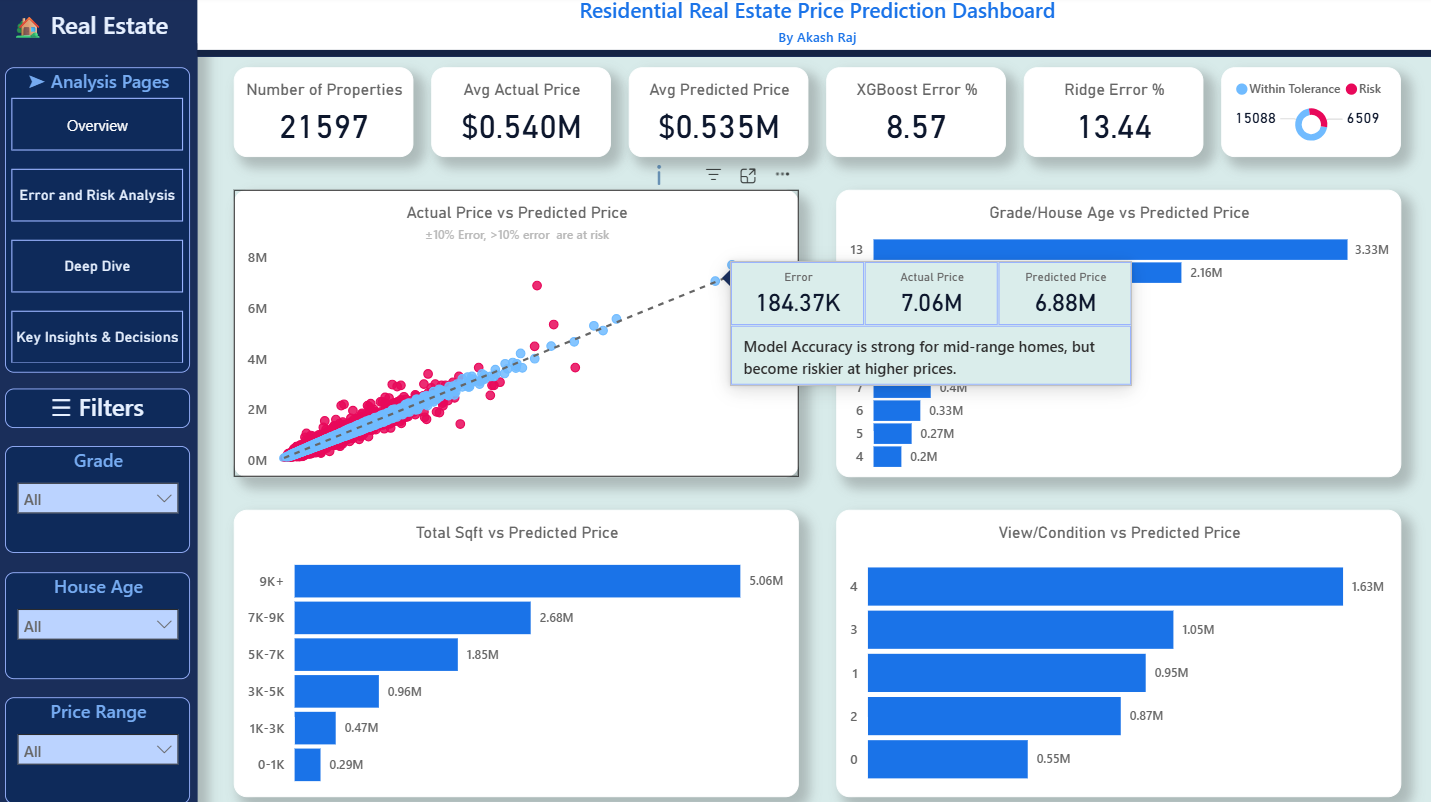

Layout of this report page (visuals, bound fields, positions):
{"tool":"tableau","page":{"name":"Model Reliability & Pricing Confidence","canvas":[1000,1000],"units":"permille","ordinal":1},"visuals":[{"type":"worksheet","title":"Ex-Back","mark":"Automatic","box":[0,0,1000,1000]},{"type":"text","box":[47.4,27.8,902.3,47.2]},{"type":"dashboard-object","box":[54.1,33.3,109.8,38.9]},{"type":"filter","title":"Actual vs Predicted — XGBoost","param":"[federated.0pb6tqq0hun84y1cwjt1z028dbxy].[none:actual_price:qk]","box":[674.4,175,91,98.6]},{"type":"filter","title":"Actual vs Predicted — XGBoost","param":"[federated.0pb6tqq0hun84y1cwjt1z028dbxy].[none:grade:qk]","box":[766.9,175,91,98.6]},{"type":"filter","title":"Ex-Back","param":"[federated.0pb6tqq0hun84y1cwjt1z028dbxy].[none:house_age:qk]","box":[859.4,175,91,98.6]},{"type":"worksheet","title":"KPI Tiles","mark":"Automatic","box":[49.6,176.4,581.2,98.6]},{"type":"blank","box":[166.9,176.4,2.3,97.2]},{"type":"blank","box":[281.9,176.4,2.3,97.2]},{"type":"blank","box":[397,176.4,2.3,97.2]},{"type":"blank","box":[512,176.4,2.3,97.2]},{"type":"worksheet","title":"Actual vs Predicted — XGBoost","mark":"Automatic","rows":["actual_price"],"cols":["xgb_pred_price"],"box":[43.6,419.4,281.2,481.9]},{"type":"worksheet","title":"Actual vs Predicted — Ridge","mark":"Automatic","rows":["actual_price"],"cols":["ridge_pred_price"],"box":[357.1,419.4,279.7,481.9]},{"type":"worksheet","title":"Total Sqft vs Predicted Price","mark":"Bar","rows":["Calculation_0555552130994176"],"cols":["xgb_pred_price"],"box":[671.4,419.4,280.4,481.9]},{"type":"text","box":[214.3,438.9,85.7,41.7]},{"type":"legend","title":"Total Sqft vs Predicted Price","param":"[federated.0pb6tqq0hun84y1cwjt1z028dbxy].[none:Calculation_0458520059084800:nk]","box":[209,833.3,112.8,58.3]}]}

Visuals, with their boxes on the dashboard's canvas, which has no fixed pixel size, in thousandths of its width and height (x1, y1, x2, y2). These are canvas units, not pixel positions in the 1431x802 screenshot, which may show the page scaled, cropped or inside an application window:
"Ex-Back" worksheet: {"x1": 0, "y1": 0, "x2": 1000, "y2": 1000}
text: {"x1": 47, "y1": 28, "x2": 950, "y2": 75}
dashboard-object: {"x1": 54, "y1": 33, "x2": 164, "y2": 72}
"Actual vs Predicted — XGBoost" filter: {"x1": 674, "y1": 175, "x2": 765, "y2": 274}
"Actual vs Predicted — XGBoost" filter: {"x1": 767, "y1": 175, "x2": 858, "y2": 274}
"Ex-Back" filter: {"x1": 859, "y1": 175, "x2": 950, "y2": 274}
"KPI Tiles" worksheet: {"x1": 50, "y1": 176, "x2": 631, "y2": 275}
blank: {"x1": 167, "y1": 176, "x2": 169, "y2": 274}
blank: {"x1": 282, "y1": 176, "x2": 284, "y2": 274}
blank: {"x1": 397, "y1": 176, "x2": 399, "y2": 274}
blank: {"x1": 512, "y1": 176, "x2": 514, "y2": 274}
"Actual vs Predicted — XGBoost" worksheet: {"x1": 44, "y1": 419, "x2": 325, "y2": 901}
"Actual vs Predicted — Ridge" worksheet: {"x1": 357, "y1": 419, "x2": 637, "y2": 901}
"Total Sqft vs Predicted Price" worksheet (Bar marks): {"x1": 671, "y1": 419, "x2": 952, "y2": 901}
text: {"x1": 214, "y1": 439, "x2": 300, "y2": 481}
"Total Sqft vs Predicted Price" legend: {"x1": 209, "y1": 833, "x2": 322, "y2": 892}
